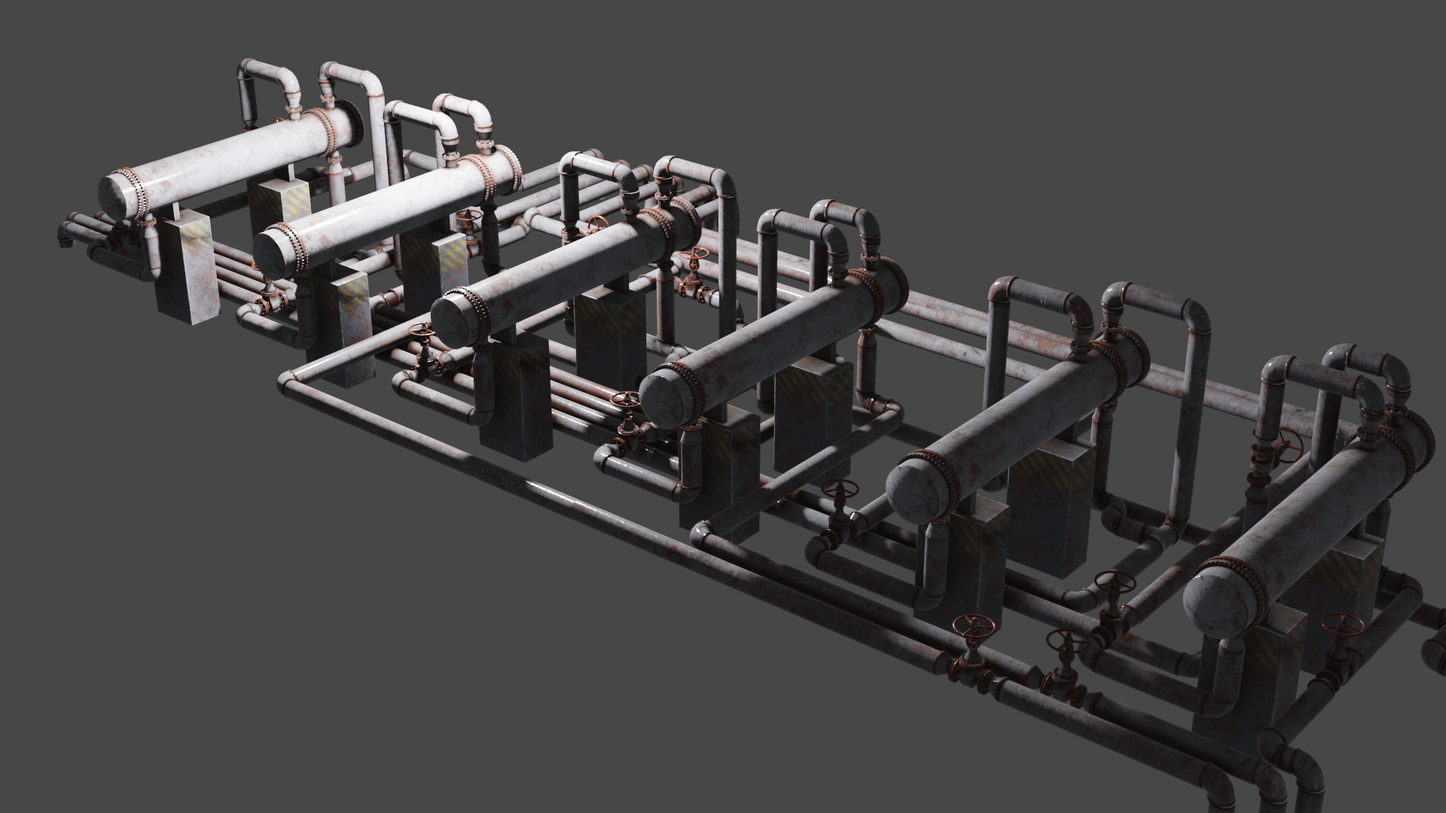HE_1: (1182, 396, 1439, 642)
HE_2: (884, 320, 1154, 529)
HE_3: (634, 254, 909, 432)
HE_4: (429, 191, 706, 350)
HE_5: (252, 142, 521, 279)
HE_6: (98, 95, 363, 223)
